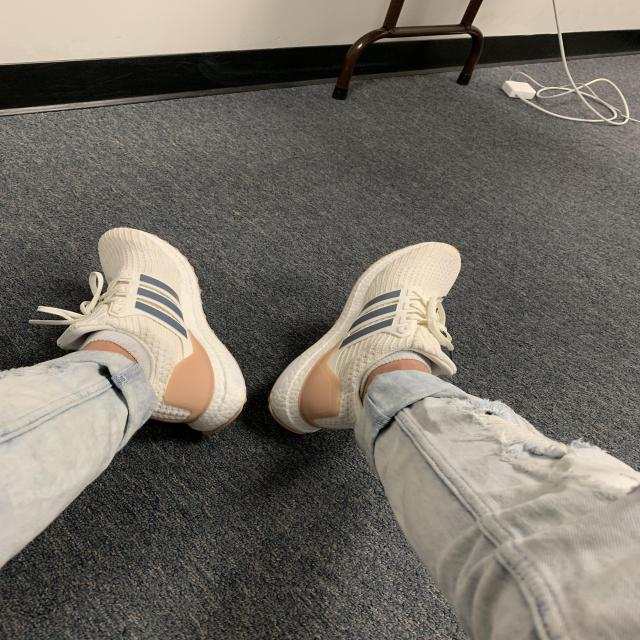shoe: (28, 225, 250, 435), (268, 240, 467, 438)
